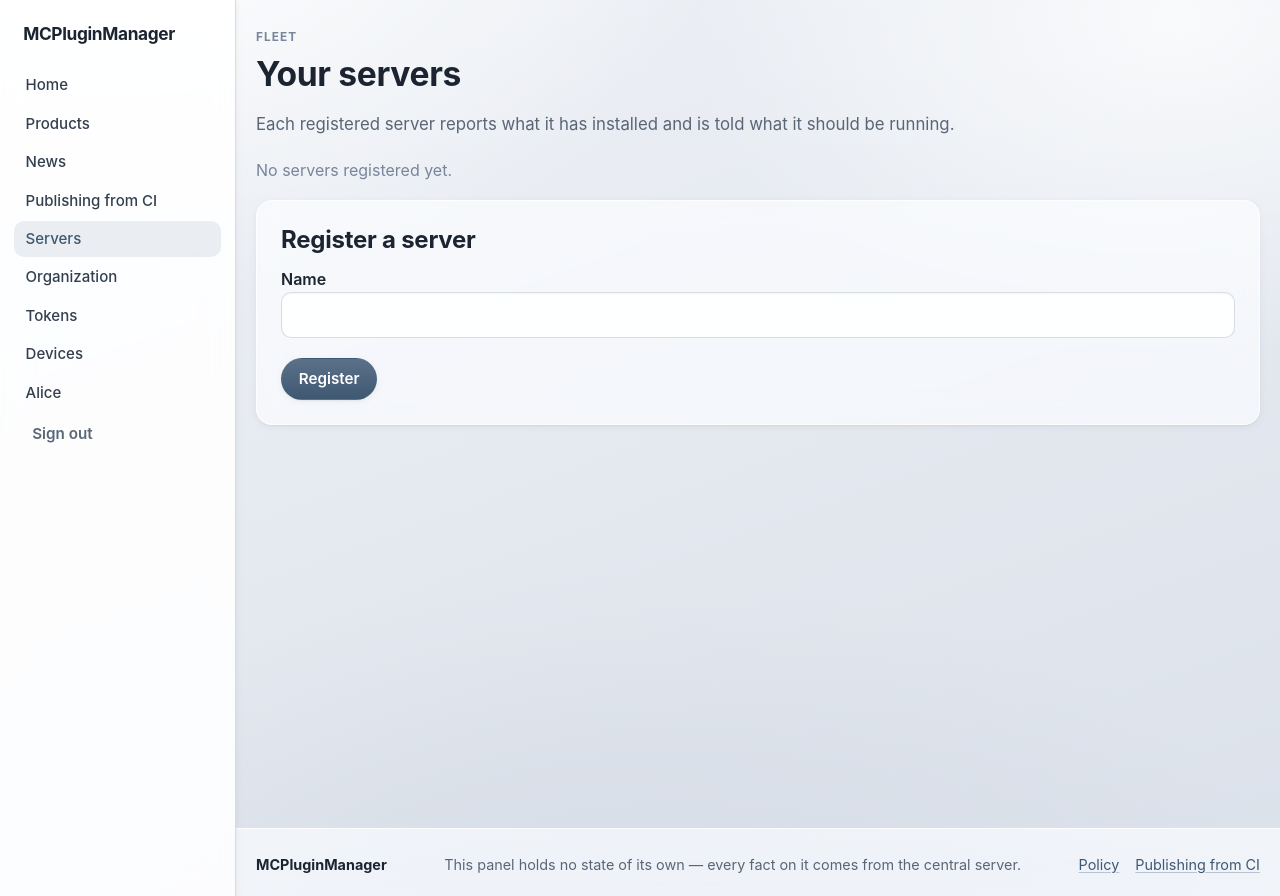
the fleet › shows the server key once, on registration
Expected: the heading "Your servers" is shown, [256, 52, 461, 94]
Type "survival" into the field labelled "Name" at (758, 315), box [281, 292, 1235, 338]
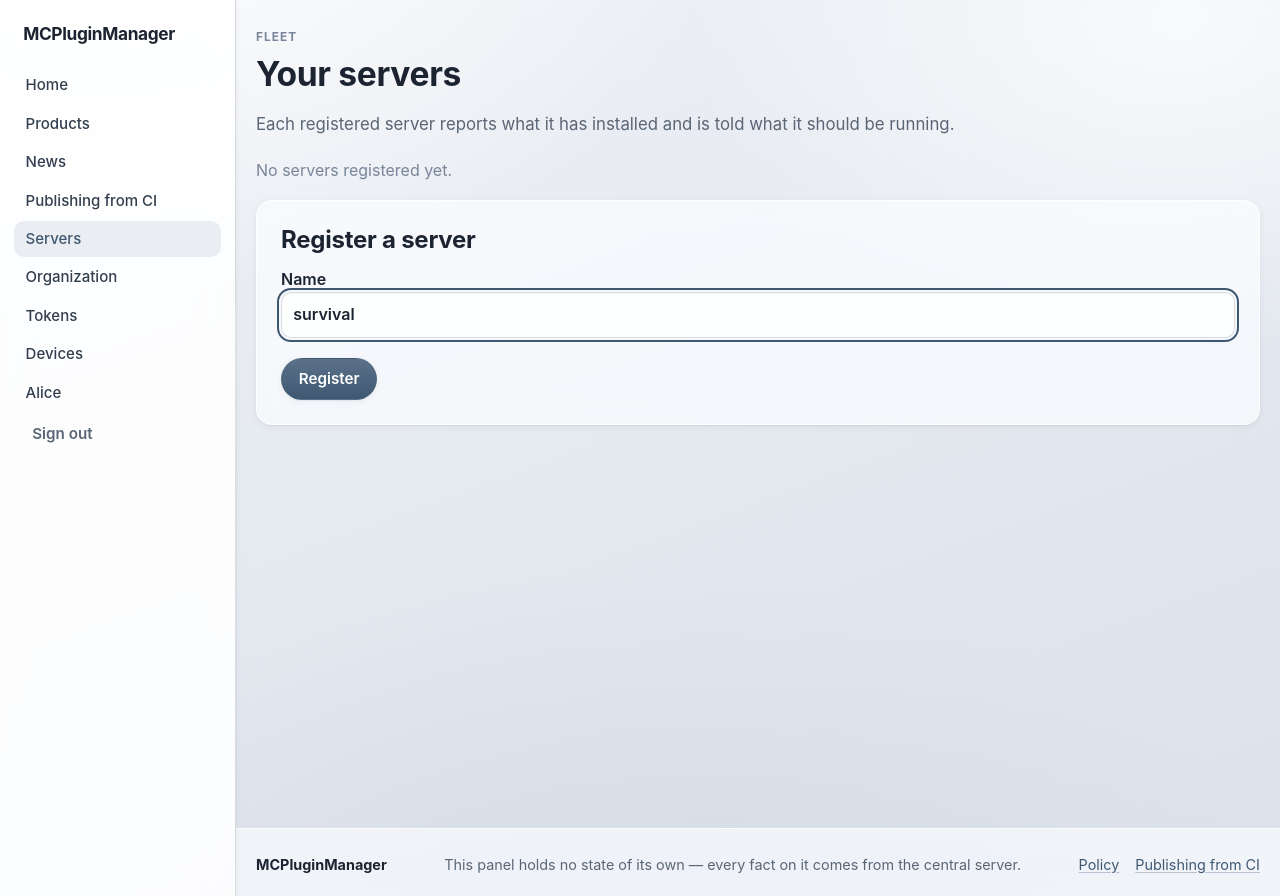
Click the button "Register" at (329, 379), box [281, 358, 377, 400]
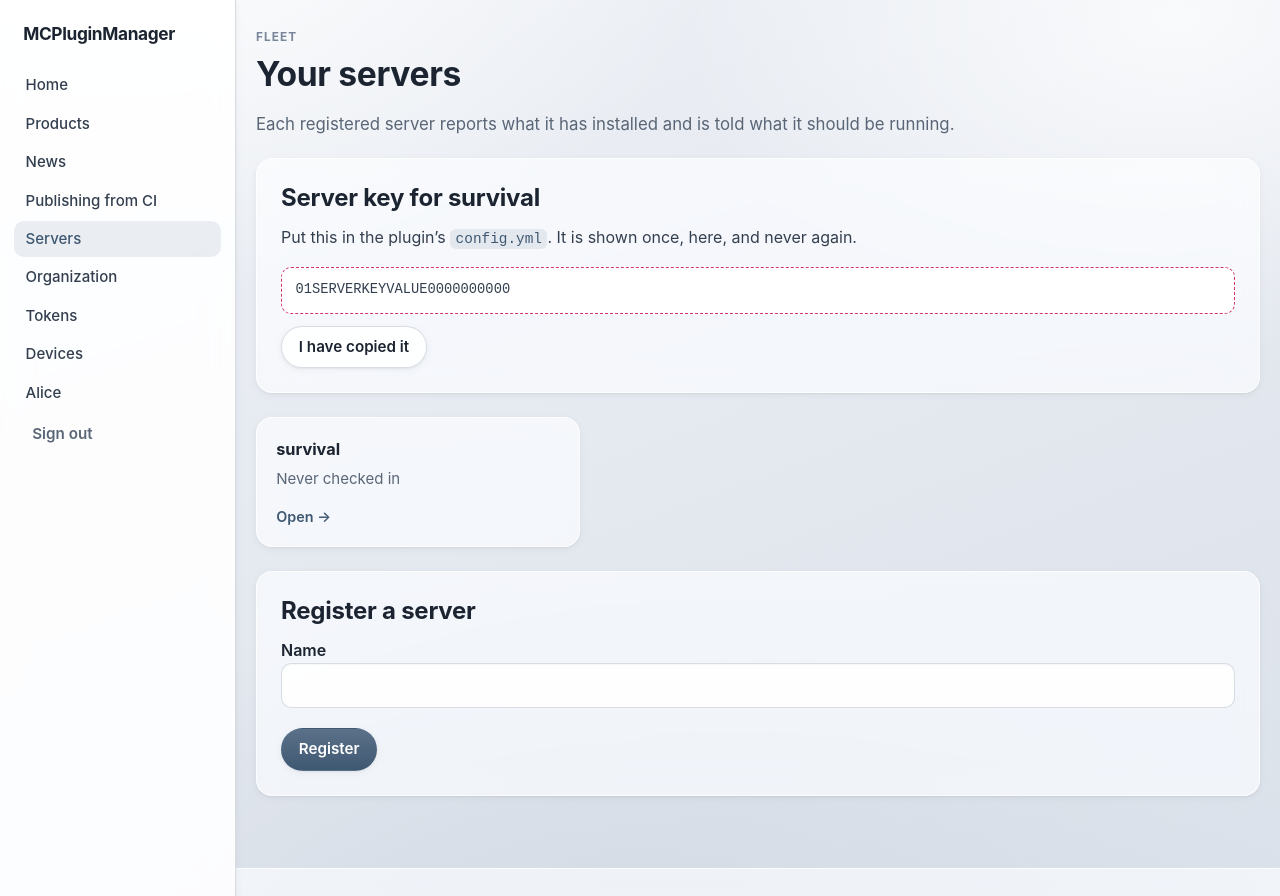
Expected: the text "01SERVERKEYVALUE0000000000" is shown, [281, 267, 1235, 314]
Expected: the text "config.yml" is shown, [450, 230, 547, 249]
